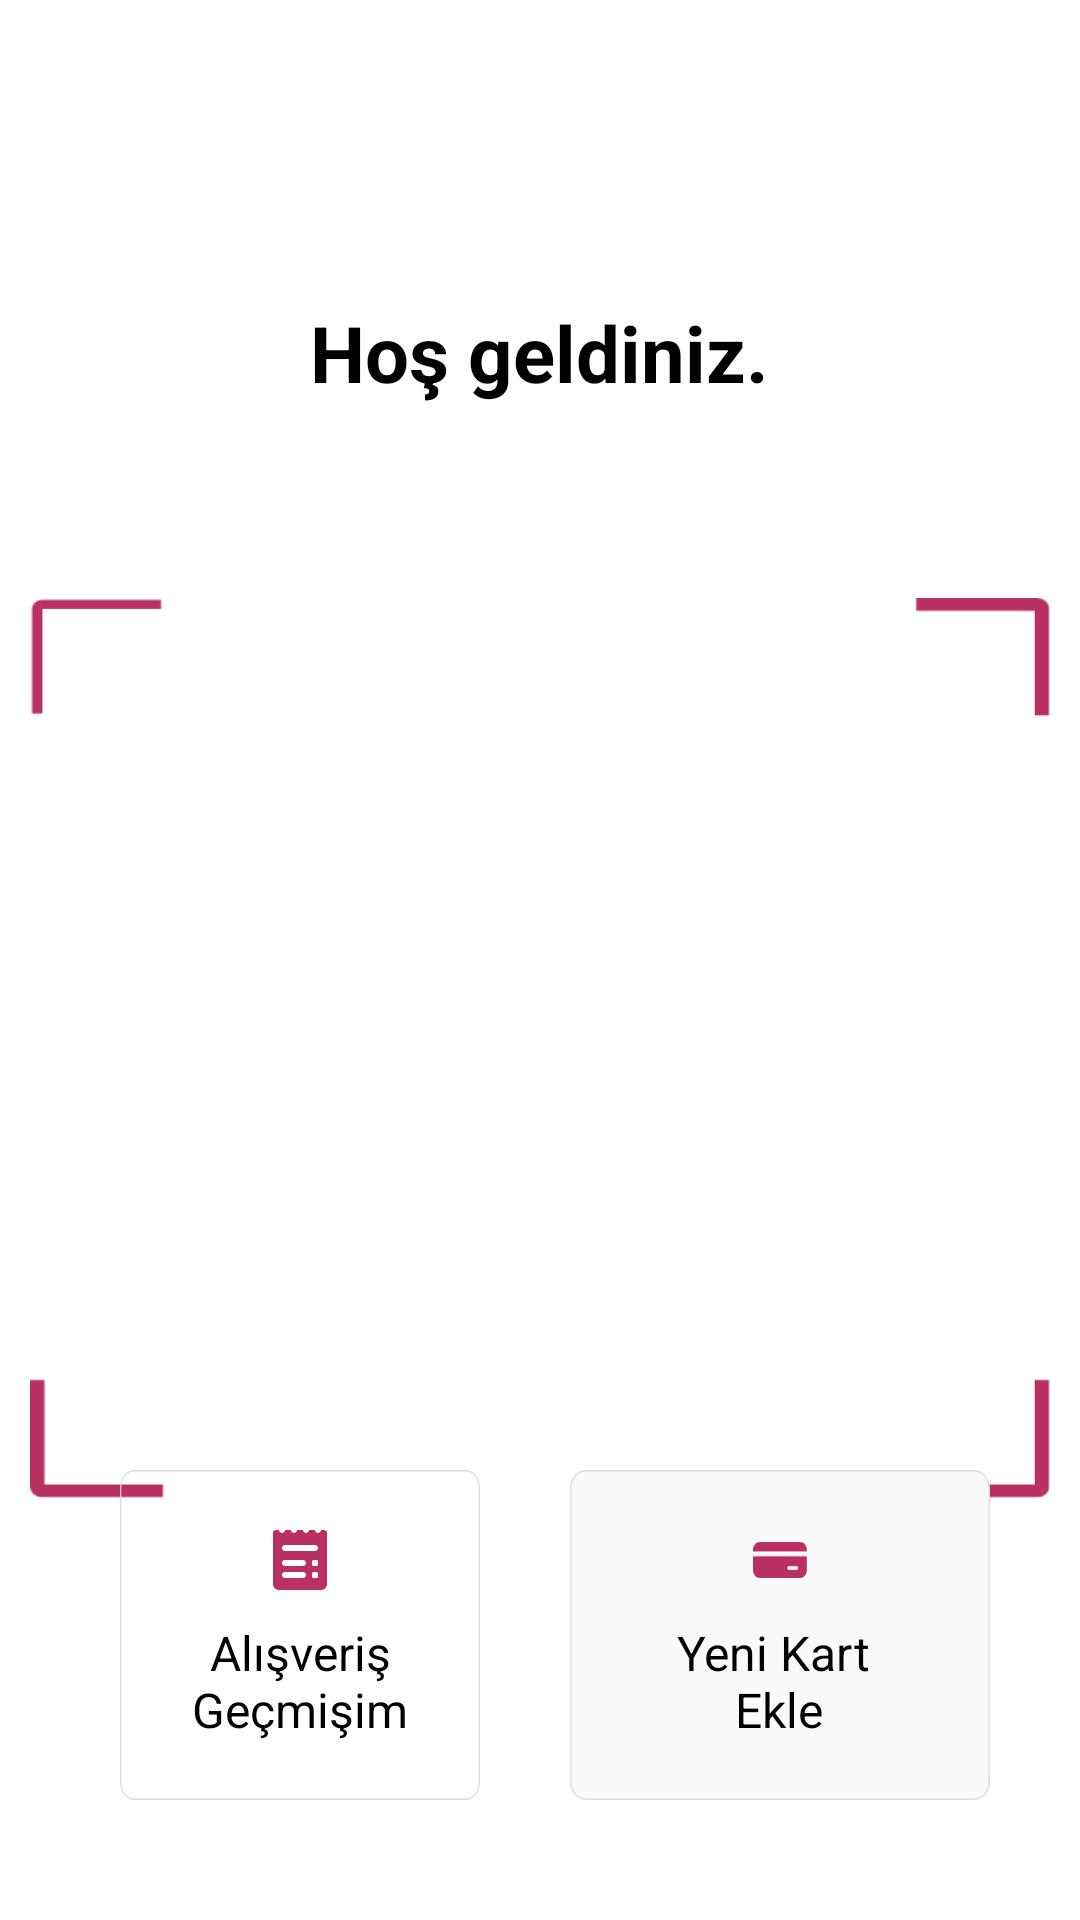

Named icons in this screenshot (1080w x 1920h) and their bounding boxes, region(x1, y1, x2, y2):
bill: region(273, 1530, 327, 1590)
credit: region(753, 1542, 807, 1578)
